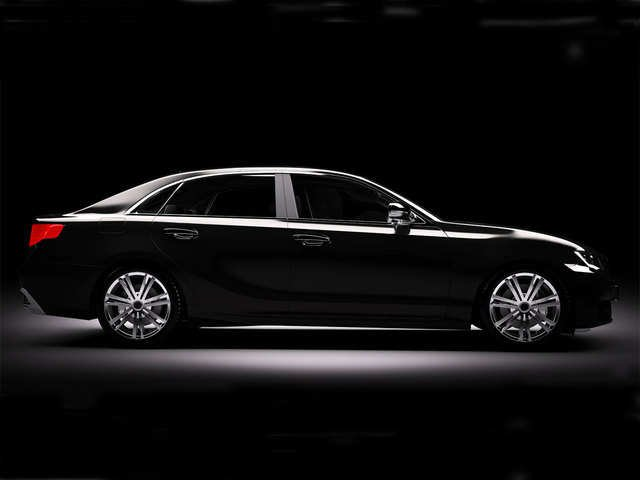car: (21, 161, 617, 347)
